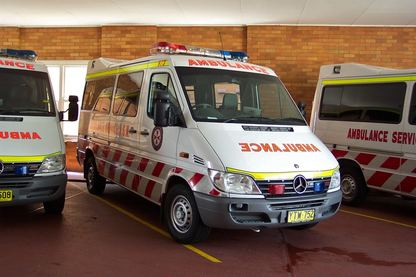ambulance: (75, 41, 343, 243), (309, 63, 416, 206), (0, 47, 79, 215)
